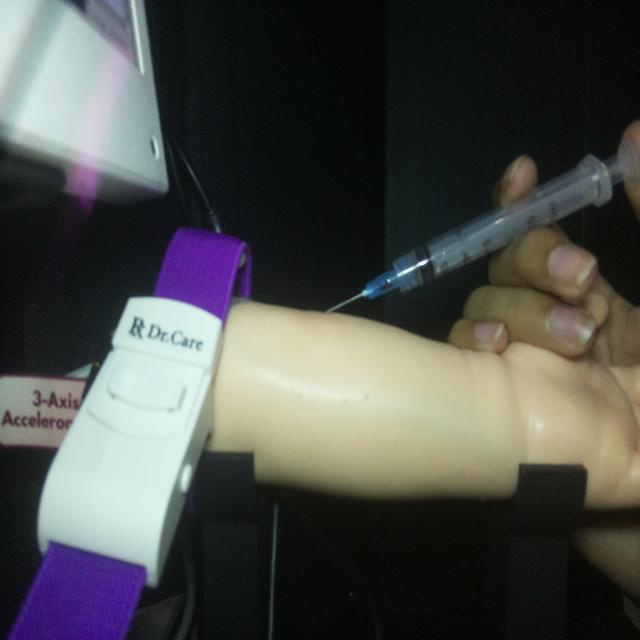19 degrees: (323, 136, 637, 316)
